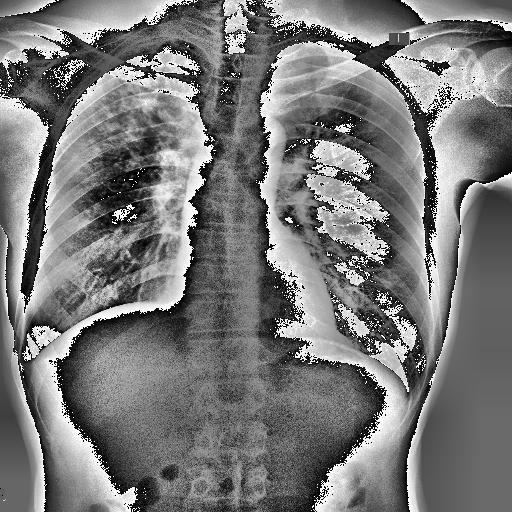13- Pulmonary fibrosis: (84, 41, 200, 218), (72, 58, 202, 214), (78, 34, 204, 162)
6- Infiltration: (84, 41, 200, 218), (72, 58, 202, 214), (78, 34, 204, 162)
